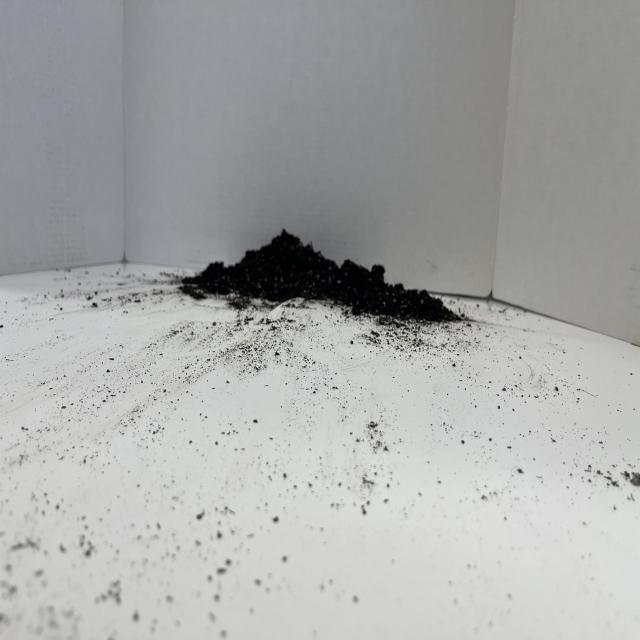soil: (177, 225, 468, 328)
